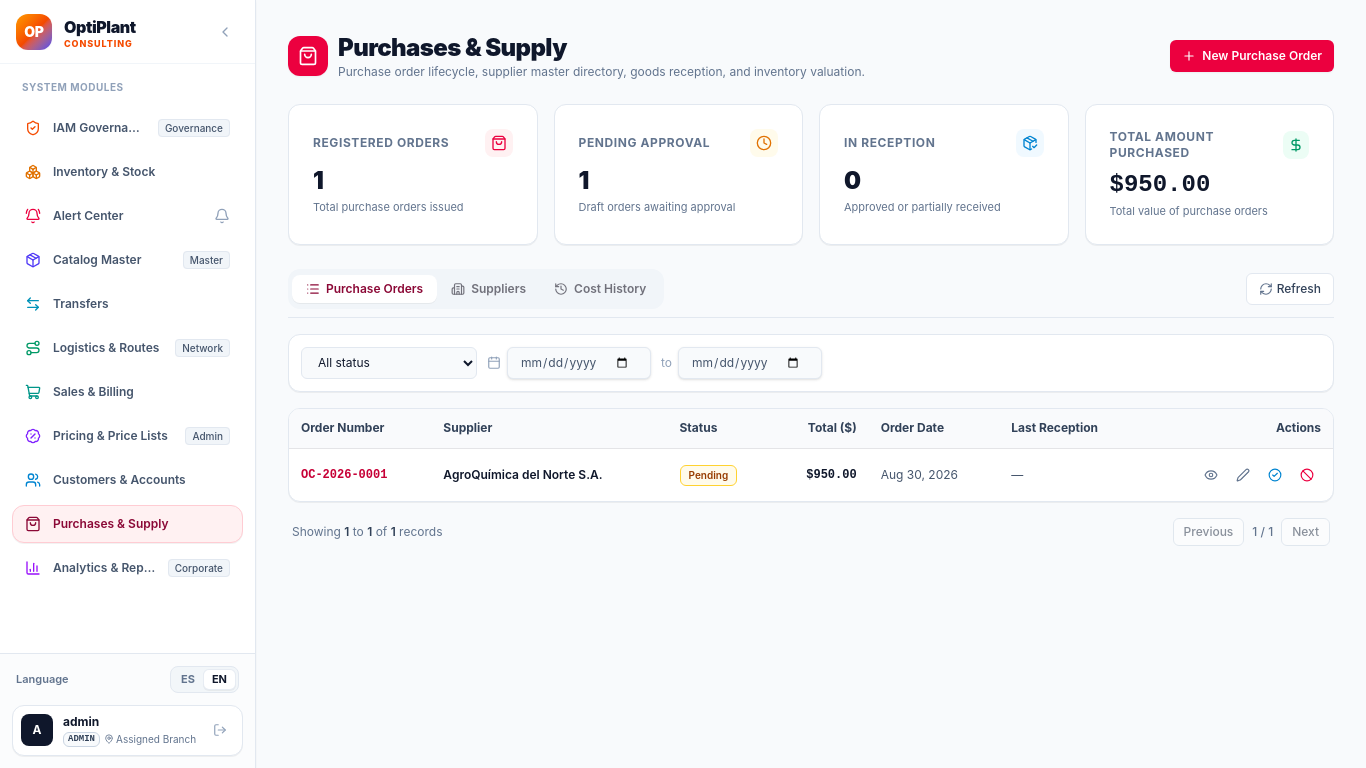
Scenario: PurchasesDashboard Component Tests › opens order detail dialog when row is clicked
Click the text "OC-2026-0001" at (360, 475), box 289,448 -> 431,501
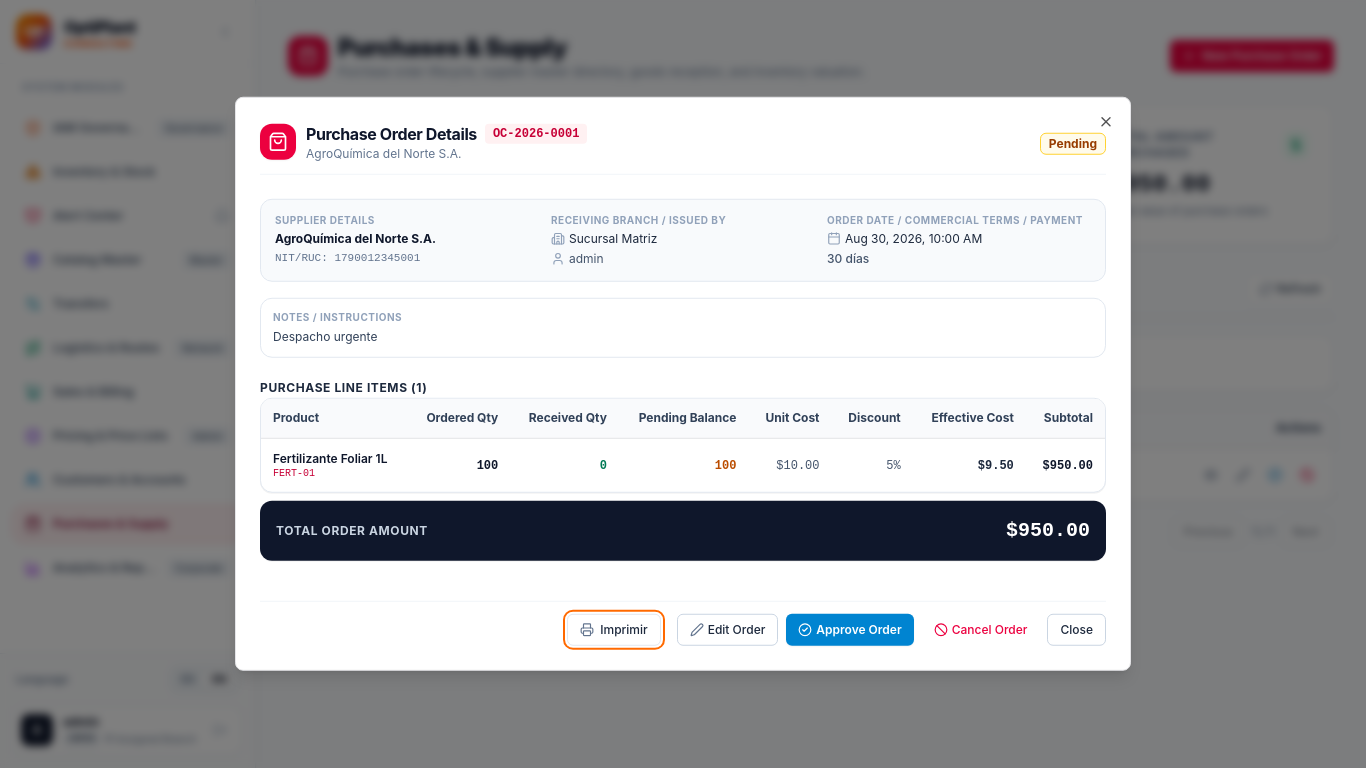
Result: the text "Despacho urgente" is shown at 273,328 -> 377,343
Result: the text "30 días" is shown at 827,251 -> 869,266
